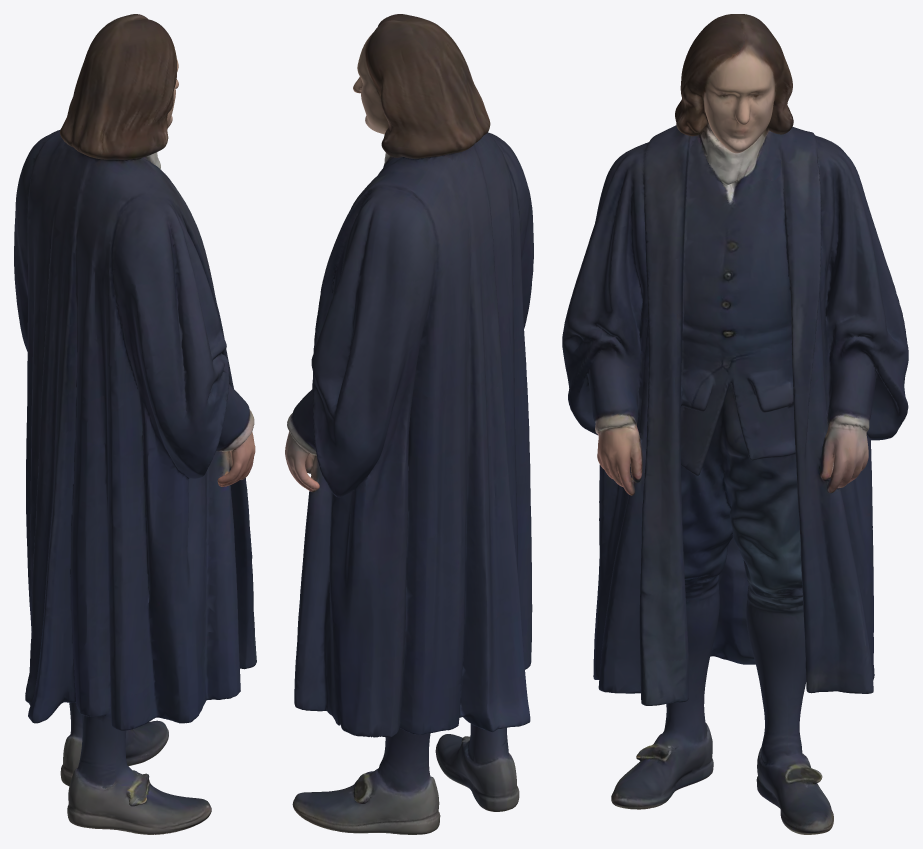
File: isaac-newton.glb
3 views of the same model, side by side, from view 1: azimuth 30°, elevation 25°; view 2: azimuth 150°, elevation 25°; view 3: azimuth 270°, elevation 25° (orthographic). The views are drawn at different scales.
Parts seen in each view (by area): view 1: tripo_node_ead61e2d-cc38-405a-a689-7228f7bafd37; view 2: tripo_node_ead61e2d-cc38-405a-a689-7228f7bafd37; view 3: tripo_node_ead61e2d-cc38-405a-a689-7228f7bafd37.
Part boxes in pixels (box(x1,y1,x2,y2)): tripo_node_ead61e2d-cc38-405a-a689-7228f7bafd37: box(14, 14, 256, 834); tripo_node_ead61e2d-cc38-405a-a689-7228f7bafd37: box(285, 14, 533, 834); tripo_node_ead61e2d-cc38-405a-a689-7228f7bafd37: box(562, 14, 908, 834).
Size of the model in its own units: 0.2598 by 1 by 0.3985.
1 material, 1 textured.
